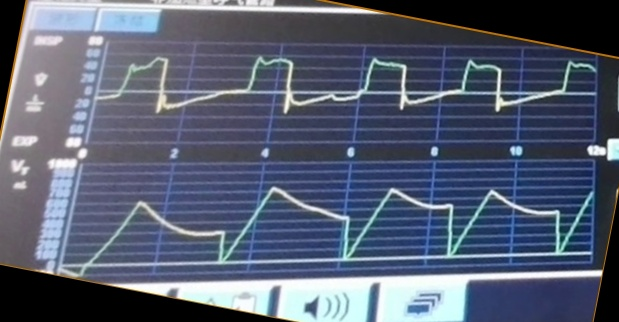Flow: (105, 54, 594, 142)
Leakage Volume: (77, 183, 593, 270)
